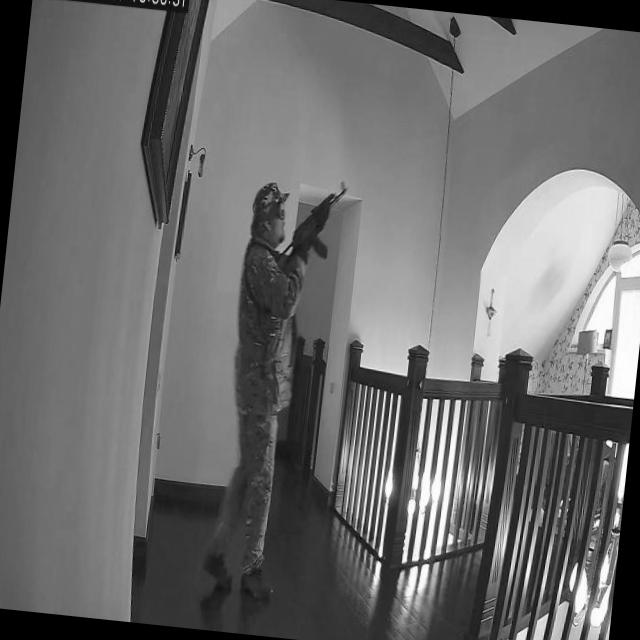gun: (276, 178, 350, 256)
person with a gun: (196, 176, 355, 614)
